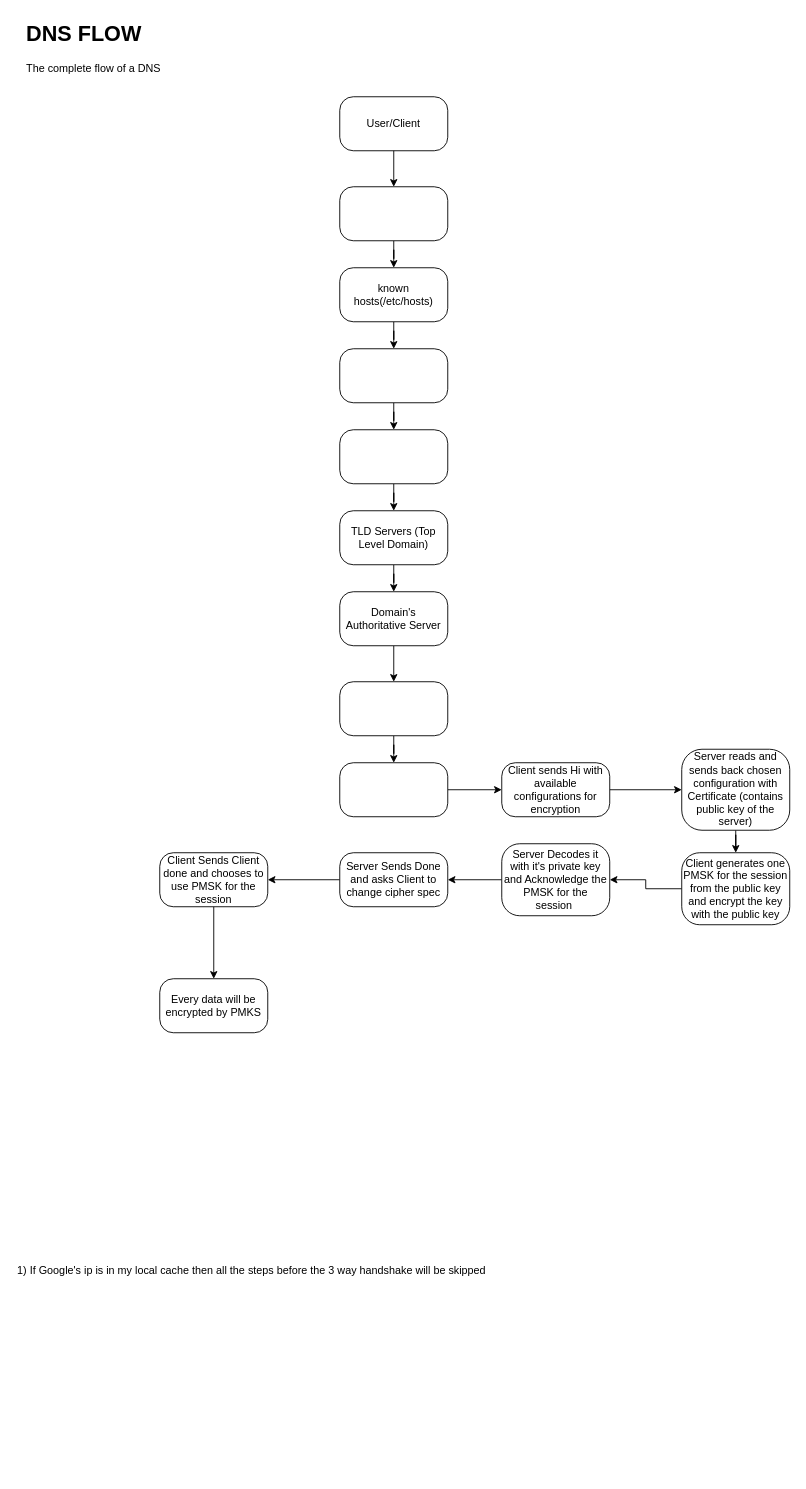
Some shapes in this 806 by 1489 pixel diagram are drawn without their labels. Here are the shapes that lost their labels. From the top down, the box of each, then its label:
(339, 186, 448, 241): OS Resolver/Cache
(339, 348, 448, 403): Browser's DNS Resolver
(339, 429, 448, 484): Rootname Servers like .com, .in
(339, 681, 448, 736): TCP Connection Establishment HTTP - 80 HTTPS - 443
(339, 762, 448, 817): 3 way handshake
